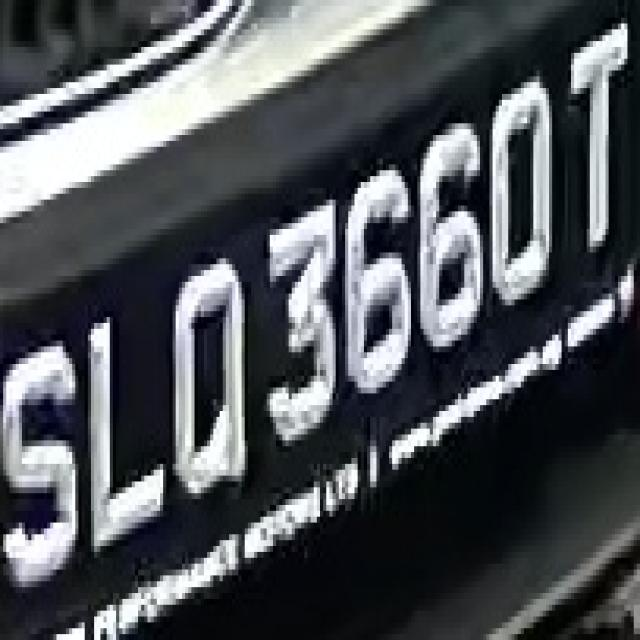0: (477, 70, 558, 340)
3: (267, 194, 345, 464)
6: (339, 159, 414, 405), (411, 117, 483, 370)
L: (85, 288, 169, 540)
Q: (160, 258, 267, 534)
S: (6, 329, 78, 587)
T: (549, 18, 634, 276)
